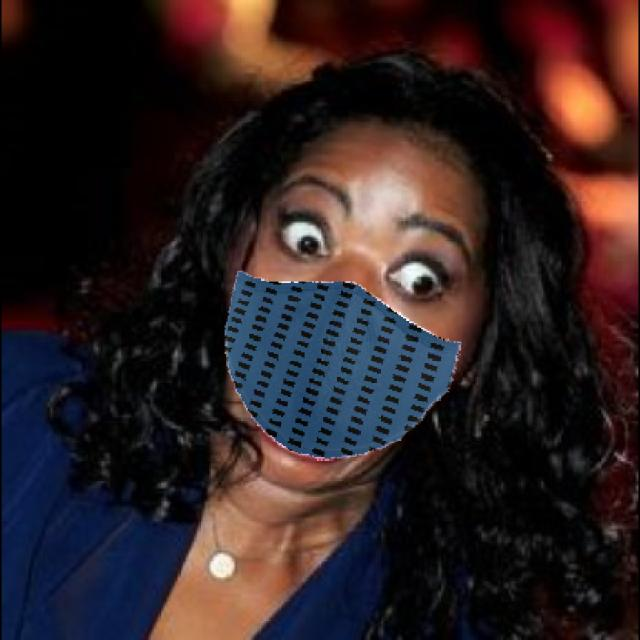mask: (207, 236, 477, 509)
